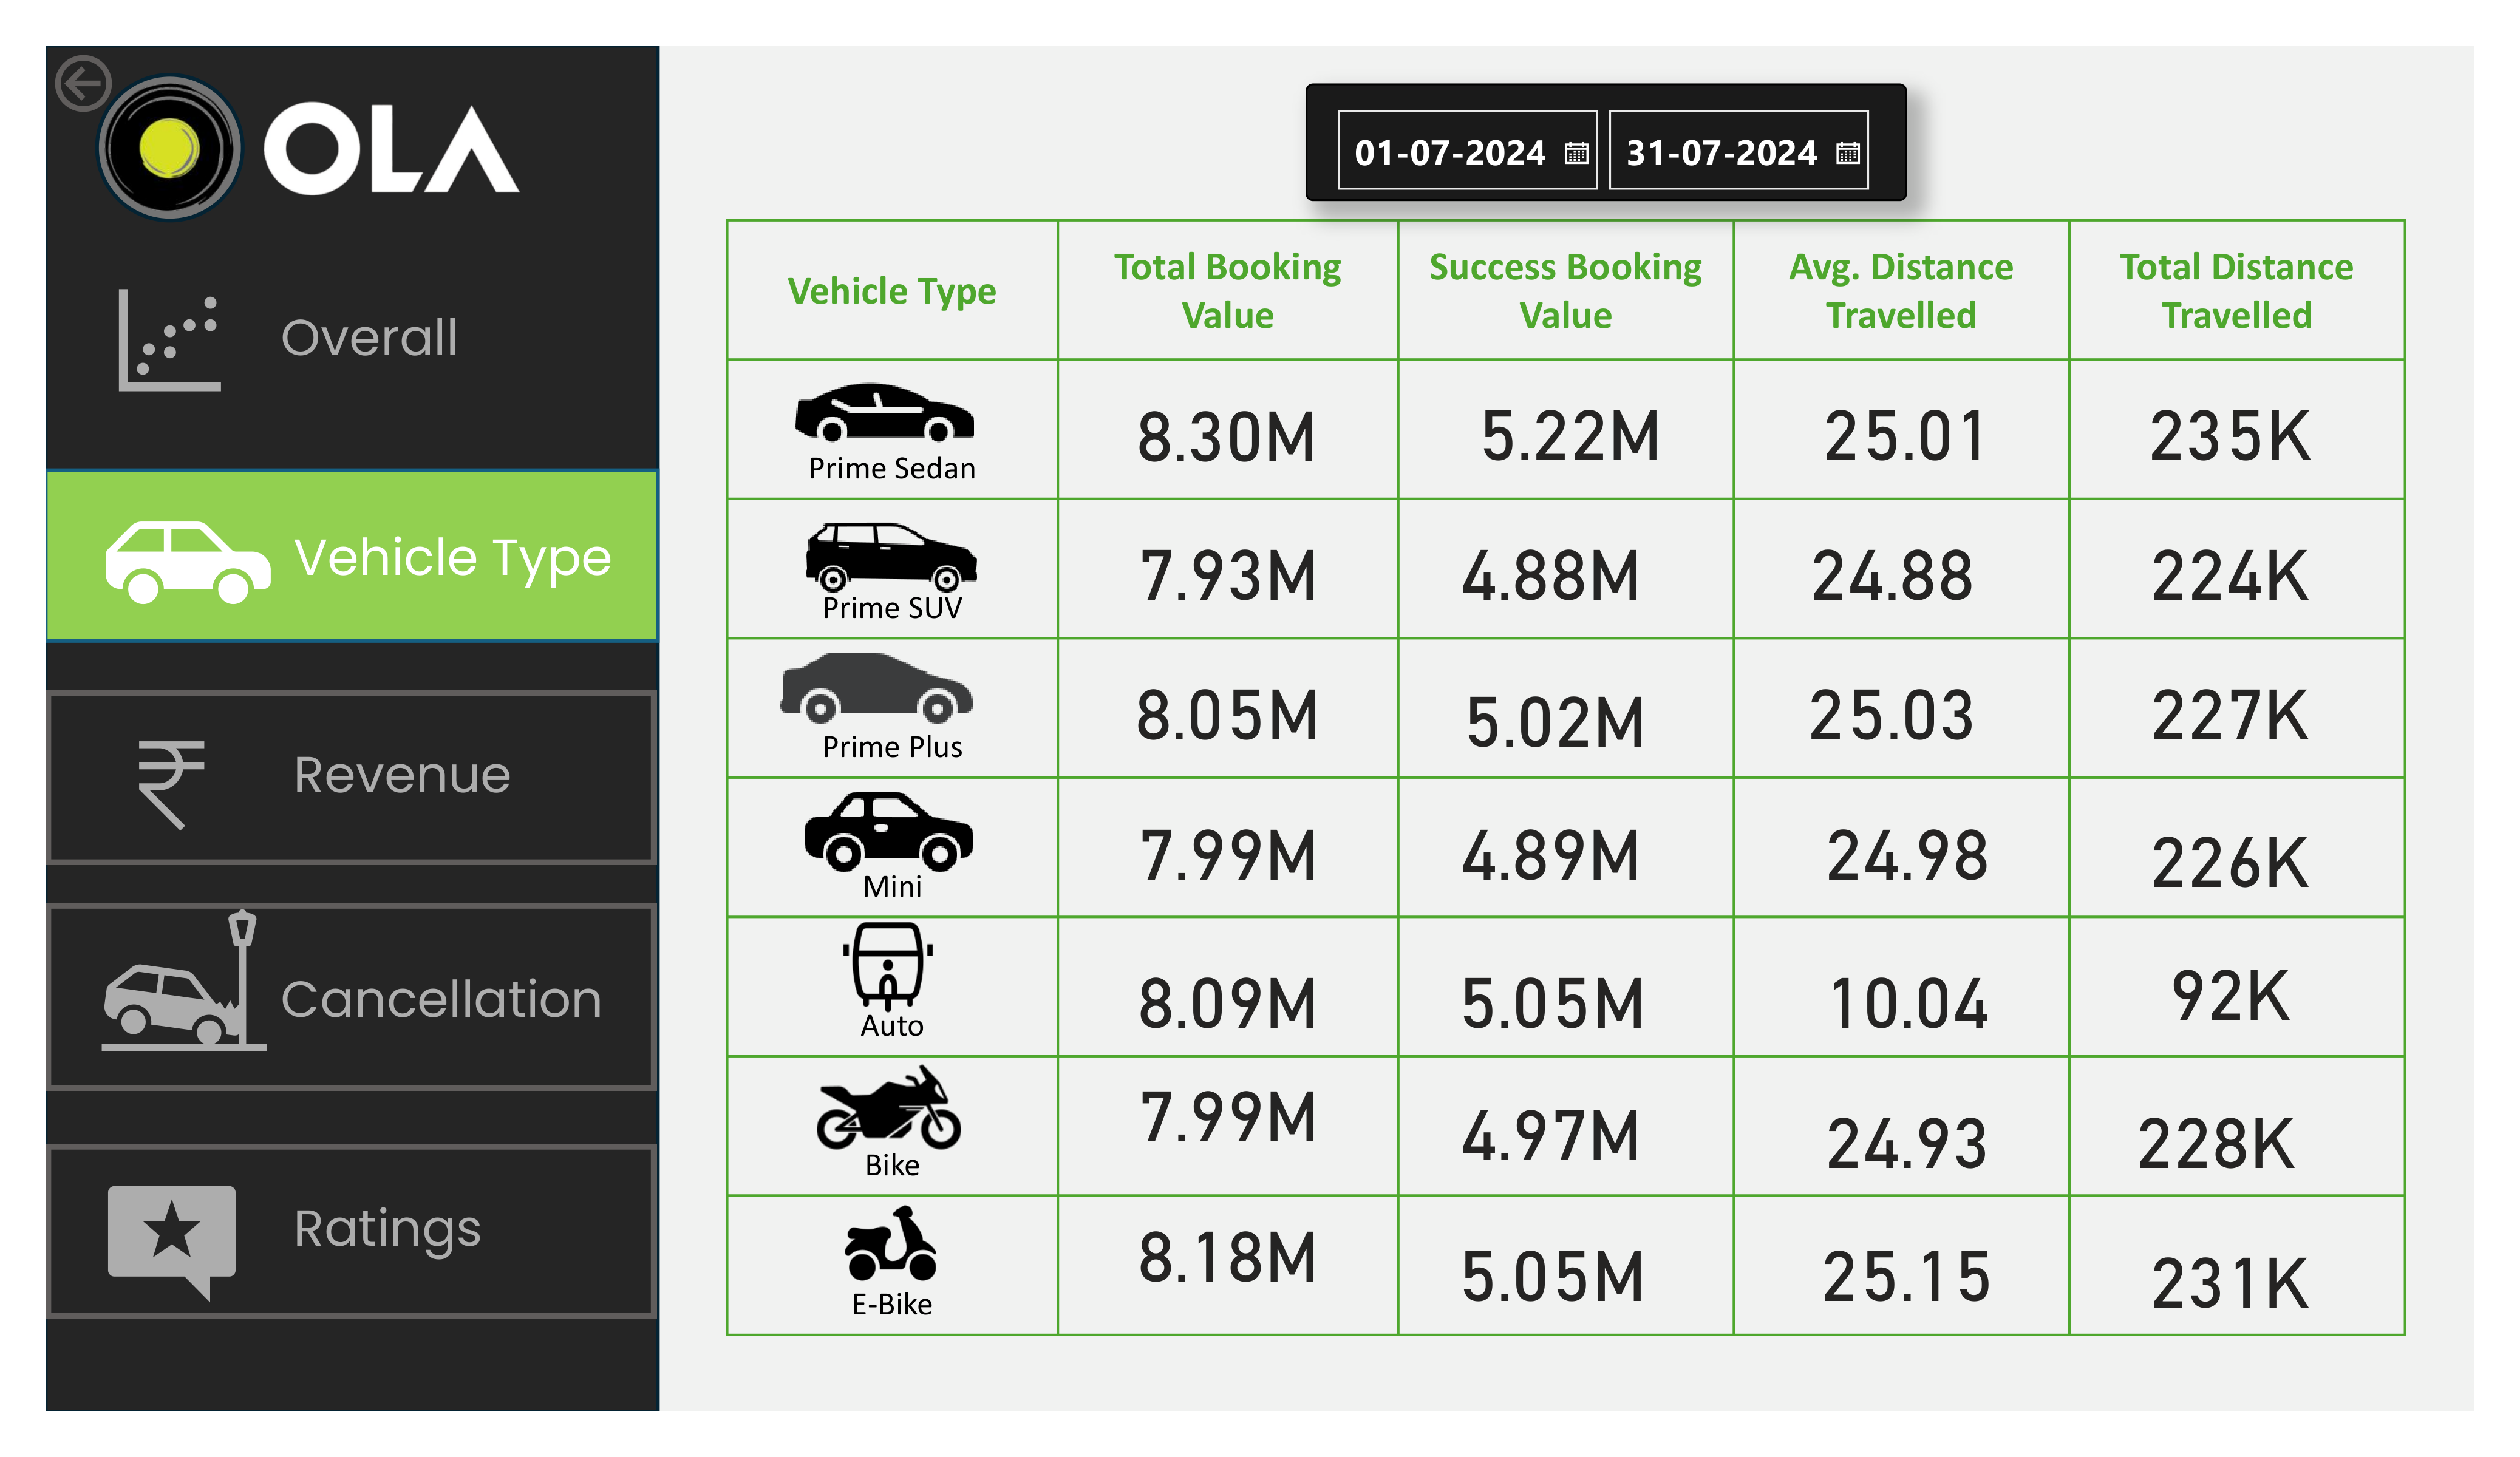

The dashboard page shown, as its layout file describes it:
{"tool":"powerbi","page":{"name":"Vehical Type","canvas":[1280,720],"ordinal":1},"visuals":[{"type":"actionButton","box":[0,339.7,322.1,92],"z":0},{"type":"actionButton","box":[0,452,322.1,98.8],"z":1000},{"type":"actionButton","box":[0,579.2,322.1,92],"z":2000},{"type":"card","fields":{"Values":["Sum(July.Booking_Value)"]},"box":[536.9,165.3,171.4,74.3],"z":3000},{"type":"card","fields":{"Values":["Sum(July.Booking_Value)"]},"box":[537.8,238.6,170.4,73.8],"z":4000},{"type":"card","fields":{"Values":["Avg(July.Ride_Distance)"]},"box":[888,238.6,170.4,73.8],"z":5000},{"type":"card","fields":{"Values":["Sum(July.Booking_Value)"]},"box":[708.2,238.6,170.4,73.8],"z":6000},{"type":"card","fields":{"Values":["Sum(July.Booking_Value)"]},"box":[537.8,386.3,170.4,73.8],"z":7000},{"type":"card","fields":{"Values":["Sum(July.Booking_Value)"]},"box":[537.8,463.9,170.4,73.8],"z":8000},{"type":"card","fields":{"Values":["Sum(July.Booking_Value)"]},"box":[537.8,524.5,170.4,73.8],"z":9000},{"type":"card","fields":{"Values":["Sum(July.Booking_Value)"]},"box":[537.8,598.3,170.4,73.8],"z":10000},{"type":"card","fields":{"Values":["Sum(July.Booking_Value)"]},"box":[717.6,164.7,170.4,73.8],"z":11000},{"type":"card","fields":{"Values":["Avg(July.Ride_Distance)"]},"box":[895.6,164.7,170.4,73.8],"z":12000},{"type":"card","fields":{"Values":["Avg(July.Ride_Distance)"]},"box":[895.6,386.3,170.4,73.8],"z":13000},{"type":"card","fields":{"Values":["Sum(July.Booking_Value)"]},"box":[708.2,463.9,170.4,73.8],"z":14000},{"type":"card","fields":{"Values":["Avg(July.Ride_Distance)"]},"box":[895.6,463.9,170.4,73.8],"z":15000},{"type":"card","fields":{"Values":["Sum(July.Booking_Value)"]},"box":[708.2,534,170.4,73.8],"z":16000},{"type":"card","fields":{"Values":["Avg(July.Ride_Distance)"]},"box":[895.6,537.8,170.4,73.8],"z":17000},{"type":"card","fields":{"Values":["Sum(July.Booking_Value)"]},"box":[708.2,607.8,170.4,73.8],"z":18000},{"type":"card","fields":{"Values":["Avg(July.Ride_Distance)"]},"box":[895.6,607.8,170.4,73.8],"z":19000},{"type":"card","fields":{"Values":["Sum(July.Booking_Value)"]},"box":[537.8,312.4,170.4,73.8],"z":20000},{"type":"card","fields":{"Values":["Sum(July.Booking_Value)"]},"box":[708.2,386.3,170.4,73.8],"z":21000},{"type":"card","fields":{"Values":["Avg(July.Ride_Distance)"]},"box":[888,312.4,170.4,73.8],"z":22000},{"type":"card","fields":{"Values":["Sum(July.Booking_Value)"]},"box":[710.1,316.2,170.4,73.8],"z":23000},{"type":"actionButton","box":[0,0,100,40],"z":24000},{"type":"card","fields":{"Values":["Sum(July.Ride_Distance)"]},"box":[1066,164.7,170.4,73.8],"z":25000},{"type":"card","fields":{"Values":["Sum(July.Ride_Distance)"]},"box":[1066,238.6,170.4,73.8],"z":26000},{"type":"card","fields":{"Values":["Sum(July.Ride_Distance)"]},"box":[1066,312.4,170.4,73.8],"z":27000},{"type":"card","fields":{"Values":["Sum(July.Ride_Distance)"]},"box":[1066,390.1,170.4,73.8],"z":28000},{"type":"card","fields":{"Values":["Sum(July.Ride_Distance)"]},"box":[1066,460.1,170.4,73.8],"z":29000},{"type":"card","fields":{"Values":["Sum(July.Ride_Distance)"]},"box":[1058.5,537.8,170.4,73.8],"z":30000},{"type":"card","fields":{"Values":["Sum(July.Ride_Distance)"]},"box":[1066,611.6,170.4,73.8],"z":31000},{"type":"slicer","title":"Date","fields":{"Values":["July.Date"]},"box":[664.3,19.7,317,62.2],"z":32000}]}

Visuals, with their boxes on the page's 1280x720 design canvas (x1, y1, x2, y2). These are canvas units, not pixel positions in the 2520x1457 screenshot, which may show the page scaled, cropped or inside an application window:
actionButton: BBox(0, 340, 322, 432)
actionButton: BBox(0, 452, 322, 551)
actionButton: BBox(0, 579, 322, 671)
card - Sum(July.Booking_Value): BBox(537, 165, 708, 240)
card - Sum(July.Booking_Value): BBox(538, 239, 708, 312)
card - Avg(July.Ride_Distance): BBox(888, 239, 1058, 312)
card - Sum(July.Booking_Value): BBox(708, 239, 879, 312)
card - Sum(July.Booking_Value): BBox(538, 386, 708, 460)
card - Sum(July.Booking_Value): BBox(538, 464, 708, 538)
card - Sum(July.Booking_Value): BBox(538, 524, 708, 598)
card - Sum(July.Booking_Value): BBox(538, 598, 708, 672)
card - Sum(July.Booking_Value): BBox(718, 165, 888, 238)
card - Avg(July.Ride_Distance): BBox(896, 165, 1066, 238)
card - Avg(July.Ride_Distance): BBox(896, 386, 1066, 460)
card - Sum(July.Booking_Value): BBox(708, 464, 879, 538)
card - Avg(July.Ride_Distance): BBox(896, 464, 1066, 538)
card - Sum(July.Booking_Value): BBox(708, 534, 879, 608)
card - Avg(July.Ride_Distance): BBox(896, 538, 1066, 612)
card - Sum(July.Booking_Value): BBox(708, 608, 879, 682)
card - Avg(July.Ride_Distance): BBox(896, 608, 1066, 682)
card - Sum(July.Booking_Value): BBox(538, 312, 708, 386)
card - Sum(July.Booking_Value): BBox(708, 386, 879, 460)
card - Avg(July.Ride_Distance): BBox(888, 312, 1058, 386)
card - Sum(July.Booking_Value): BBox(710, 316, 880, 390)
actionButton: BBox(0, 0, 100, 40)
card - Sum(July.Ride_Distance): BBox(1066, 165, 1236, 238)
card - Sum(July.Ride_Distance): BBox(1066, 239, 1236, 312)
card - Sum(July.Ride_Distance): BBox(1066, 312, 1236, 386)
card - Sum(July.Ride_Distance): BBox(1066, 390, 1236, 464)
card - Sum(July.Ride_Distance): BBox(1066, 460, 1236, 534)
card - Sum(July.Ride_Distance): BBox(1058, 538, 1229, 612)
card - Sum(July.Ride_Distance): BBox(1066, 612, 1236, 685)
"Date" slicer: BBox(664, 20, 981, 82)
